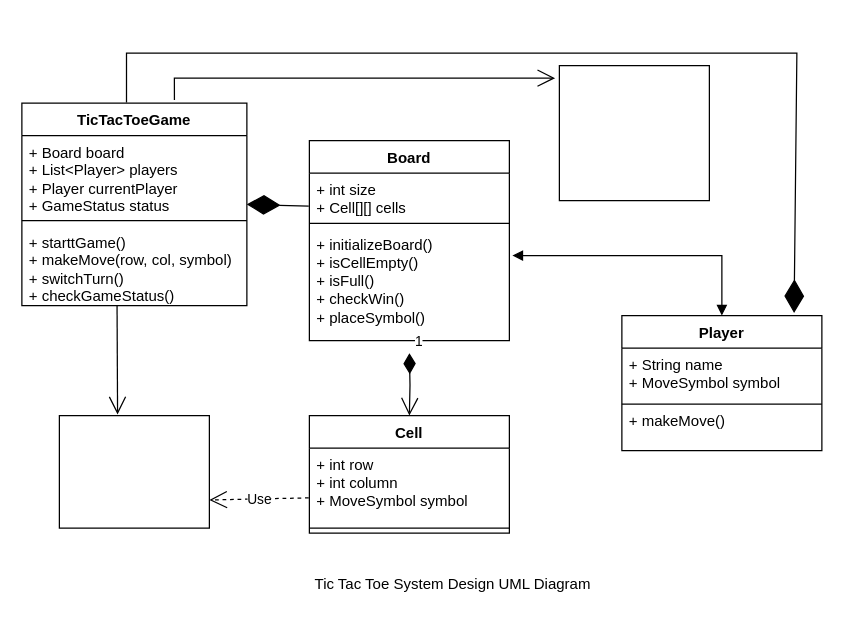
Some shapes in this 851 by 625 pixel diagram are drawn without their labels. Each missing label, with the centre of its shape:
<<EnumerationI>> MoveSymbol + X + O + EMPTY: [133,471]
<<IEnumeration>> GameStatus + IN_PROGRESS + DRAW + WIN + LOSS: [633,132]
